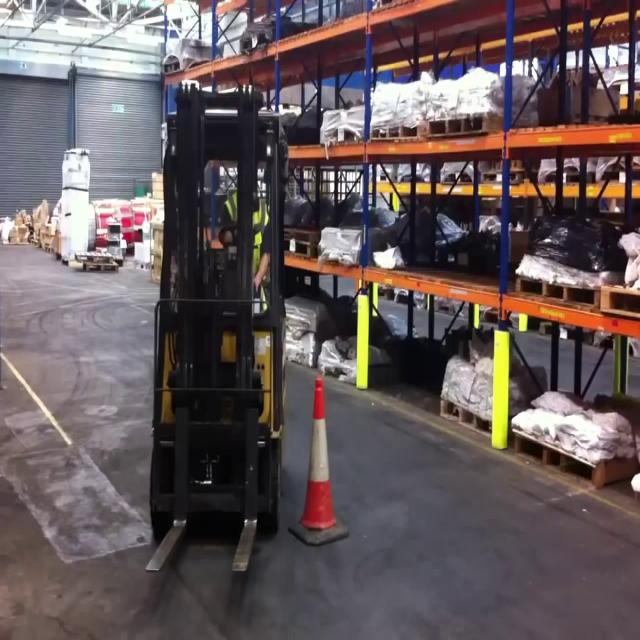Chariot elevateur: (143, 74, 292, 546)
